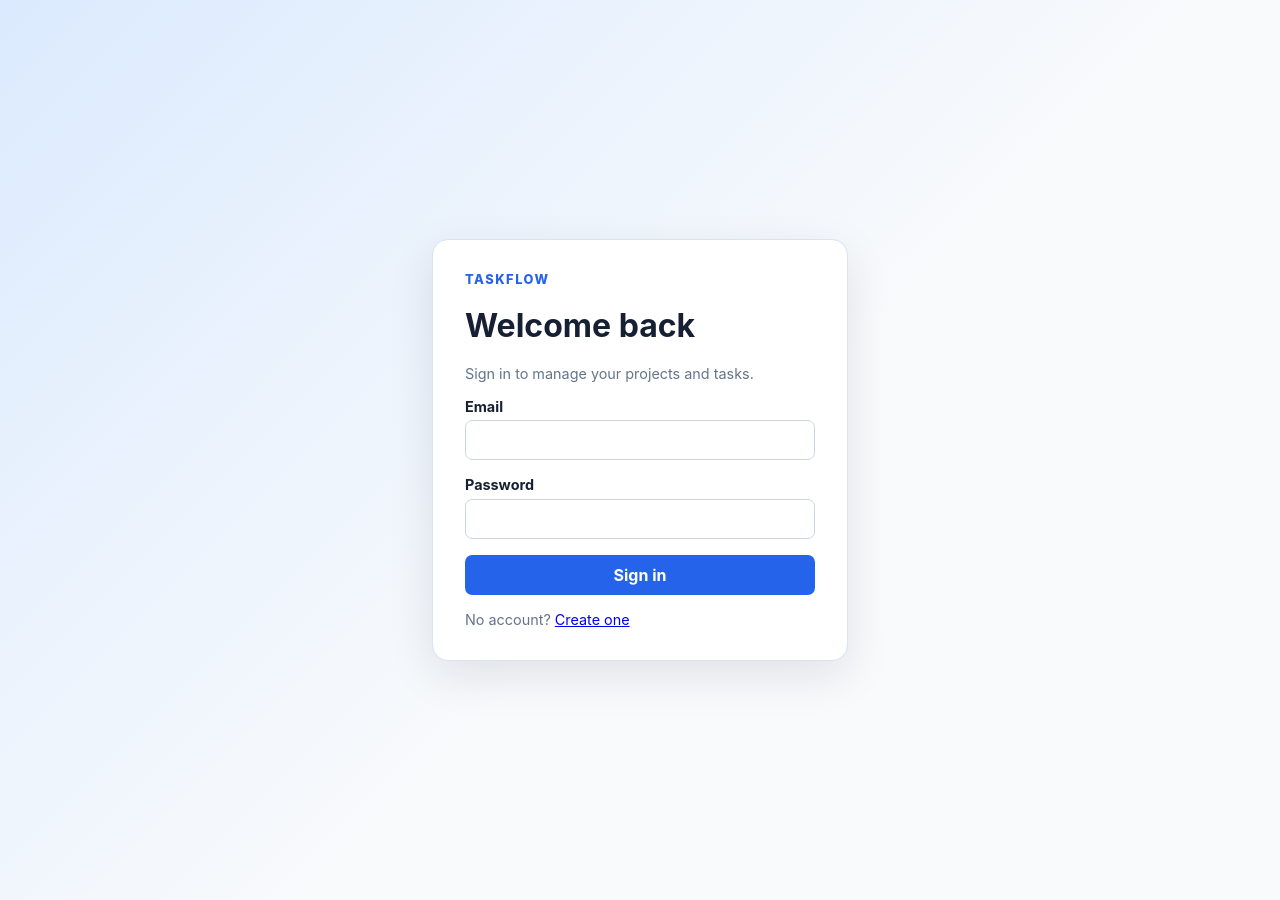
Test: signs in and shows the dashboard
Type "ada@example.com" into the field labelled "Email" at [640, 440], box [465, 420, 815, 460]
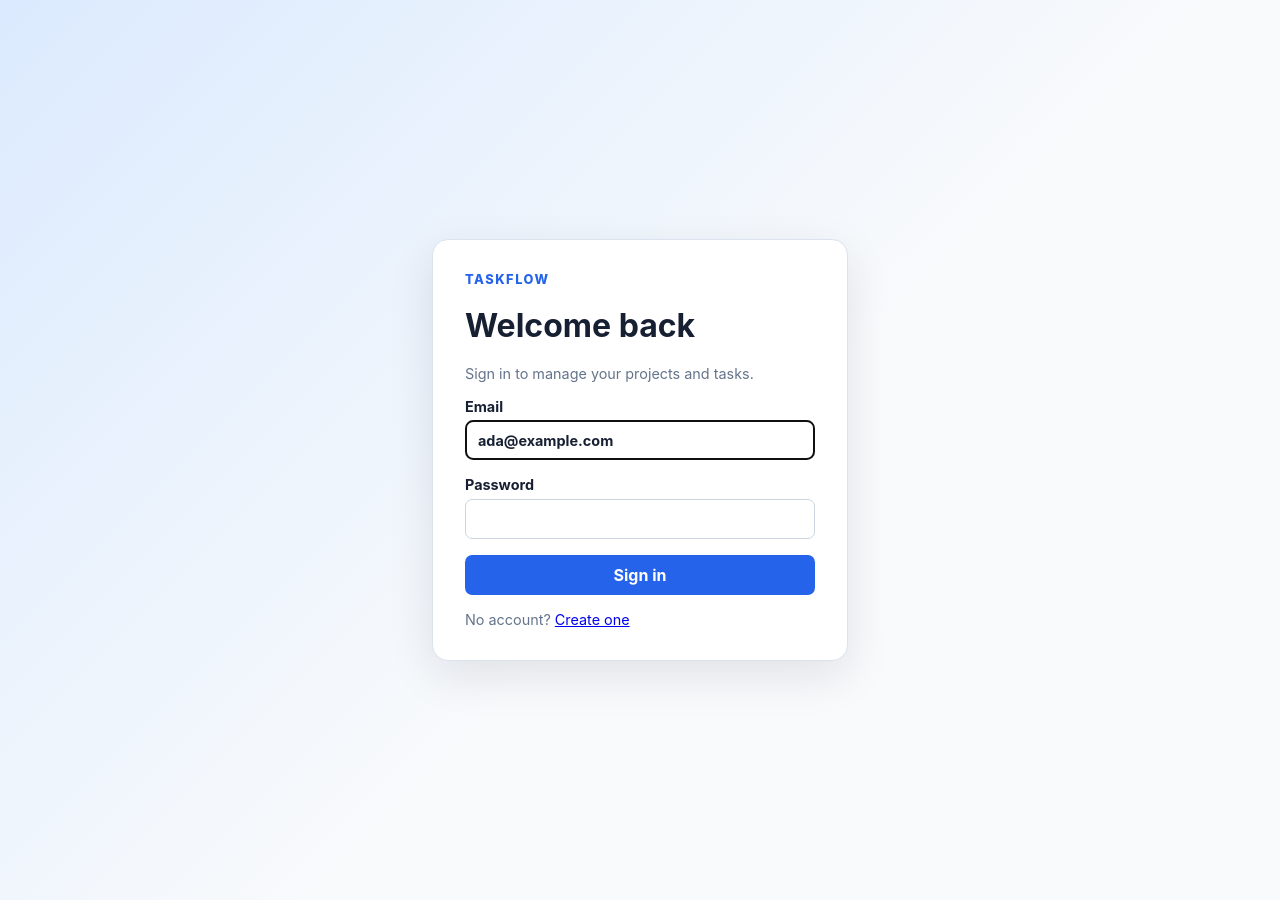
Type "a-safe-test-password" into the password field labelled "Password" at [640, 519], box [465, 499, 815, 539]
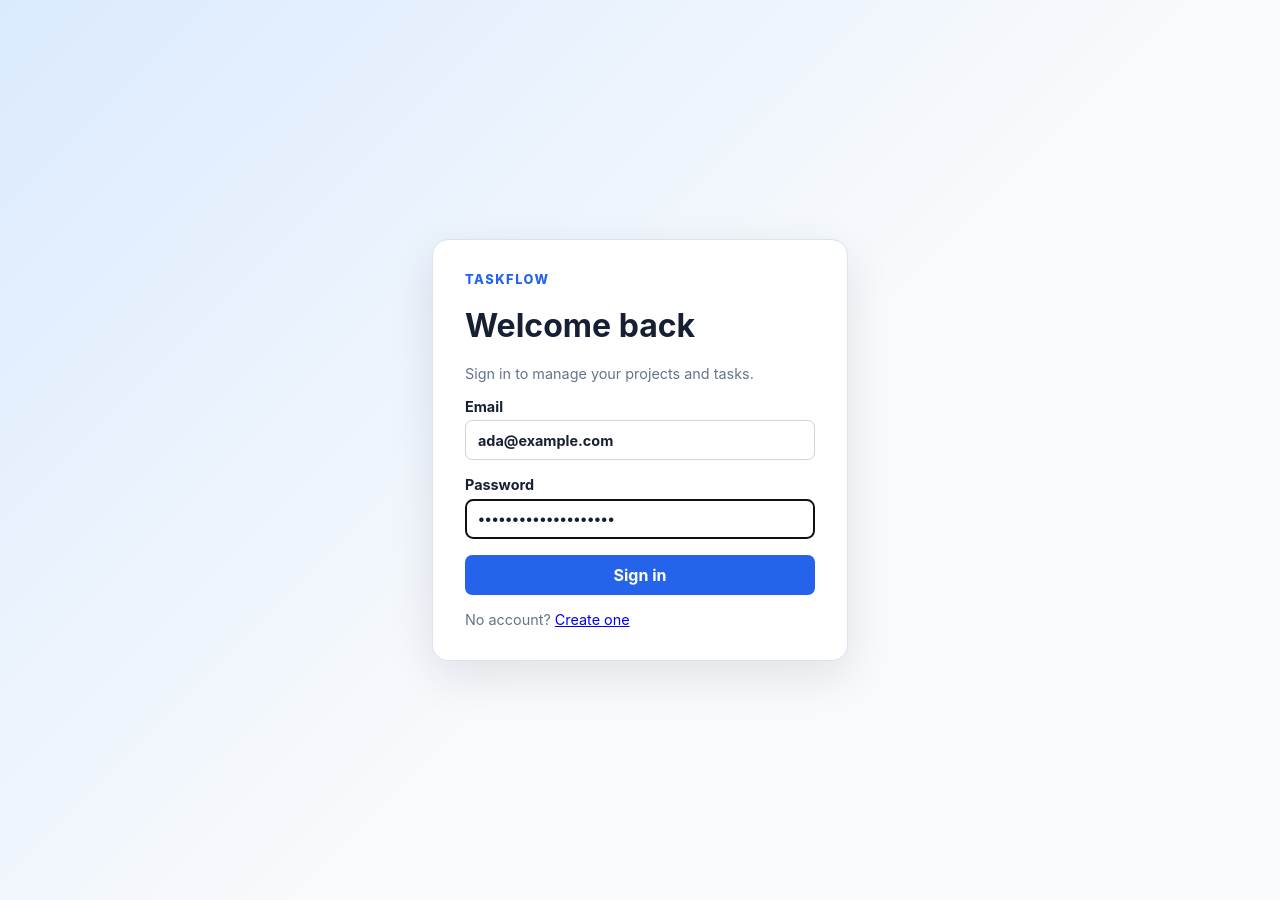
Click the button "Sign in" at [640, 575], box [465, 555, 815, 595]
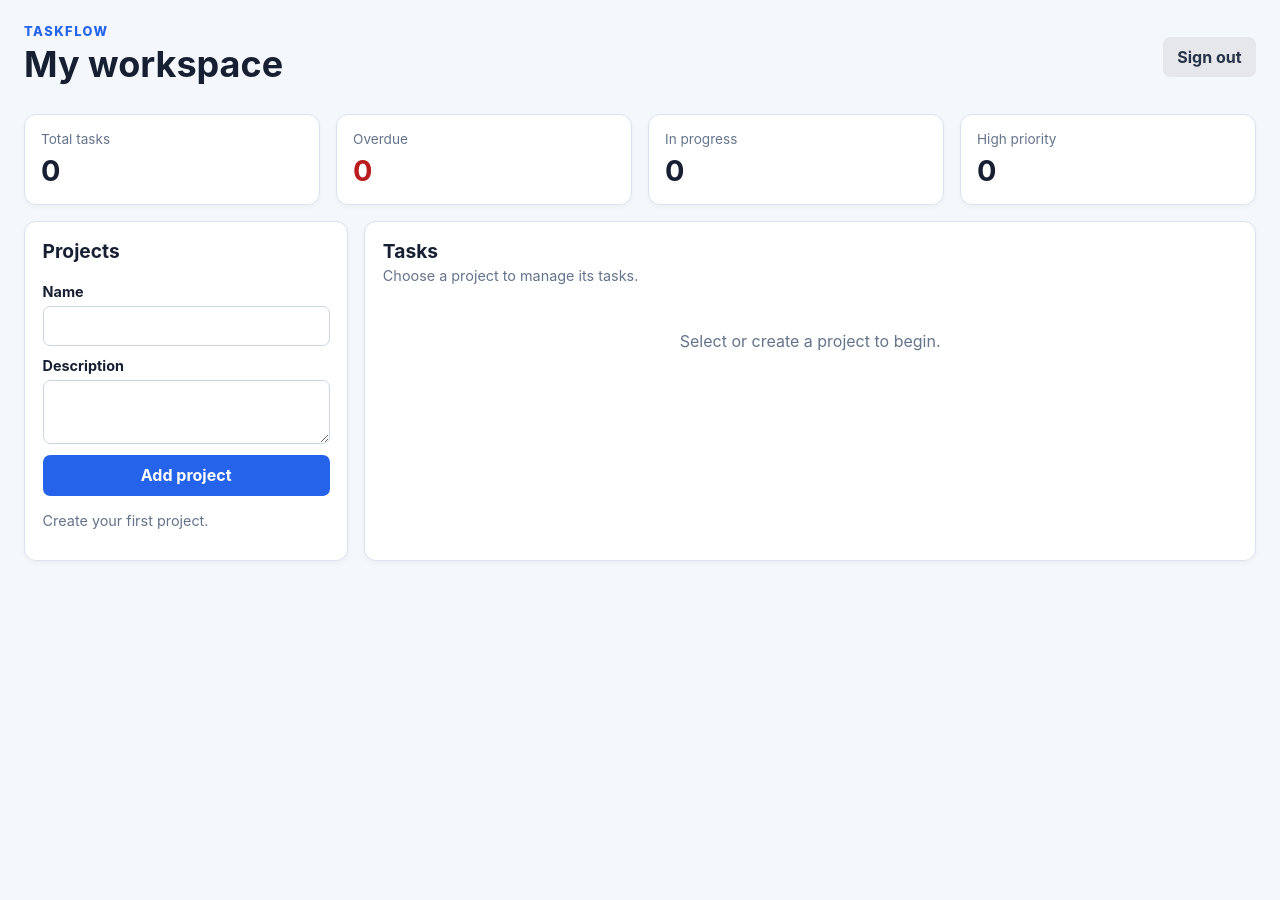
Expected: the heading "My workspace" is shown, [24, 42, 283, 86]
